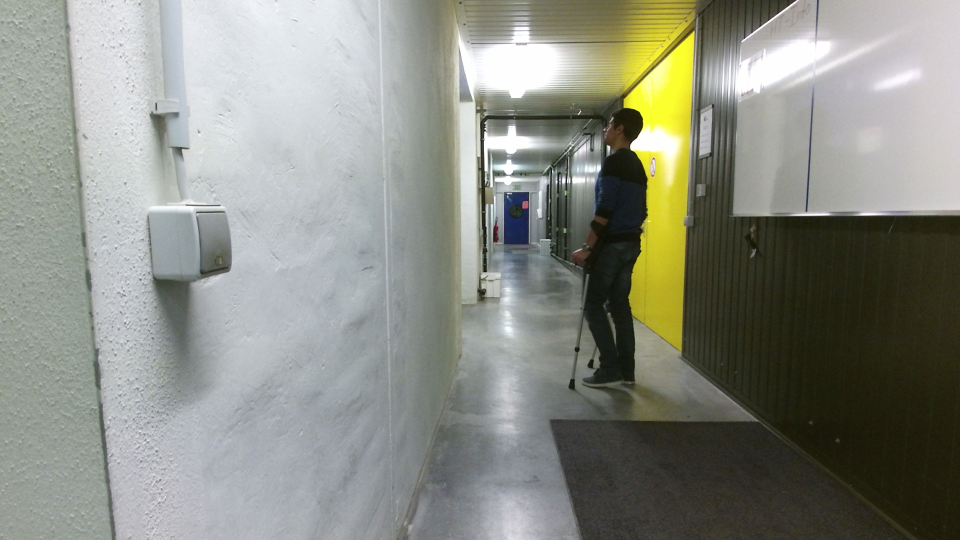crutches: (561, 98, 653, 396)
